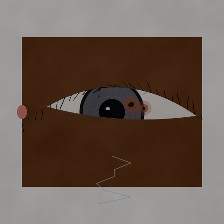foreign_body_visible: (116, 92, 147, 117)
